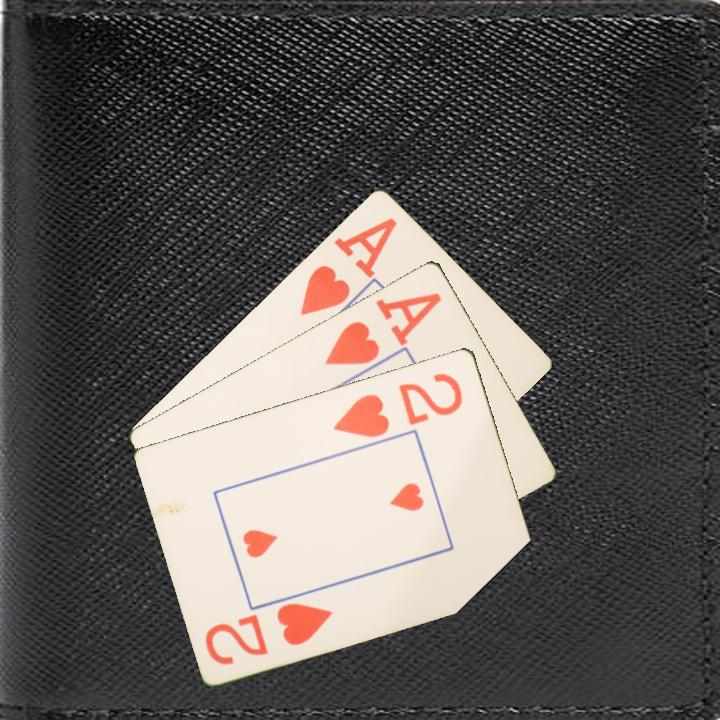2h: (330, 368, 466, 440), (201, 598, 336, 668)
Ah: (296, 213, 400, 319), (321, 288, 445, 368)
